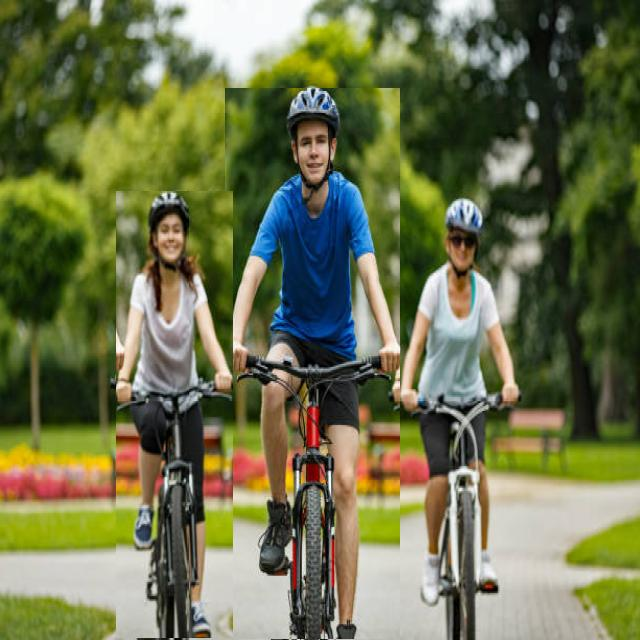bicycle: (225, 88, 400, 639), (400, 199, 520, 639), (116, 192, 232, 638)
